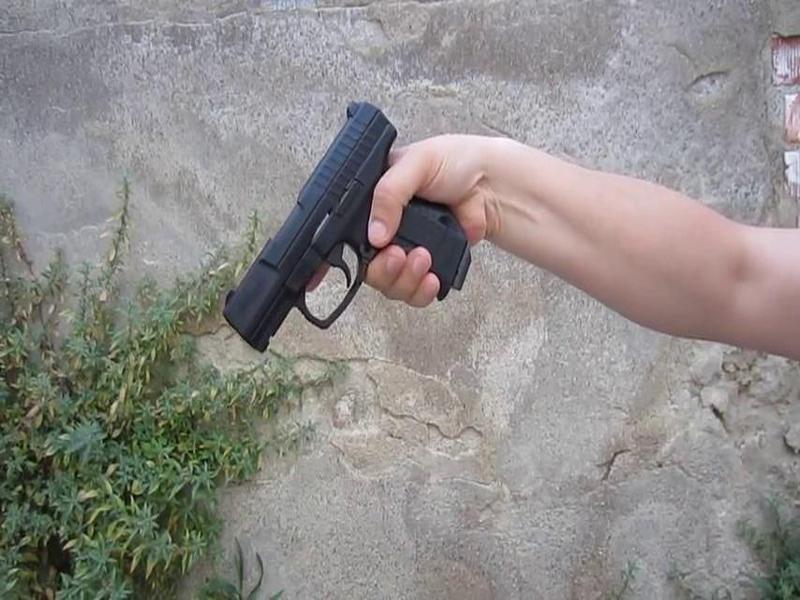Pistola: (220, 94, 483, 362)
